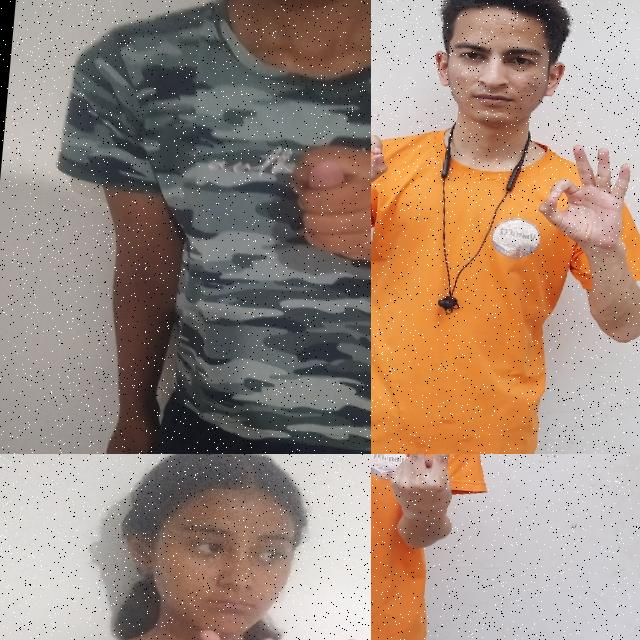Dulya: (271, 133, 371, 284)
Okay: (529, 136, 640, 259), (371, 75, 396, 205)
Reversed Victory: (377, 454, 460, 517)
